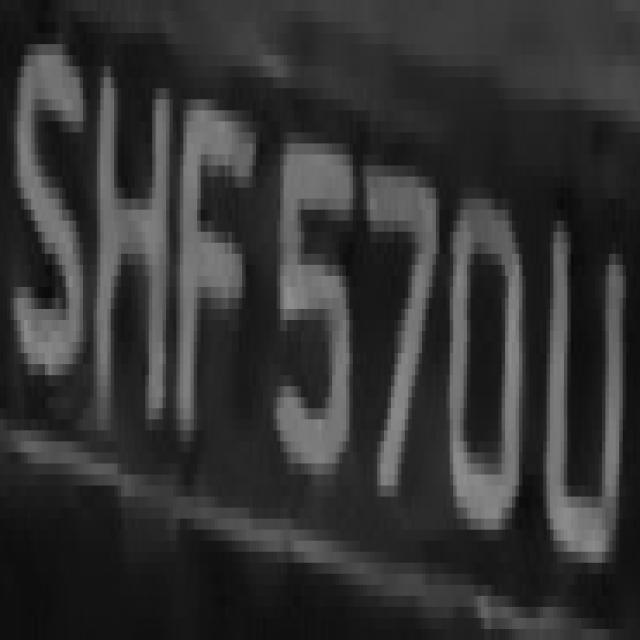0: (446, 176, 540, 552)
5: (270, 88, 349, 519)
7: (353, 132, 439, 541)
F: (177, 66, 242, 475)
H: (90, 33, 176, 475)
S: (7, 11, 86, 386)
U: (536, 210, 630, 607)
